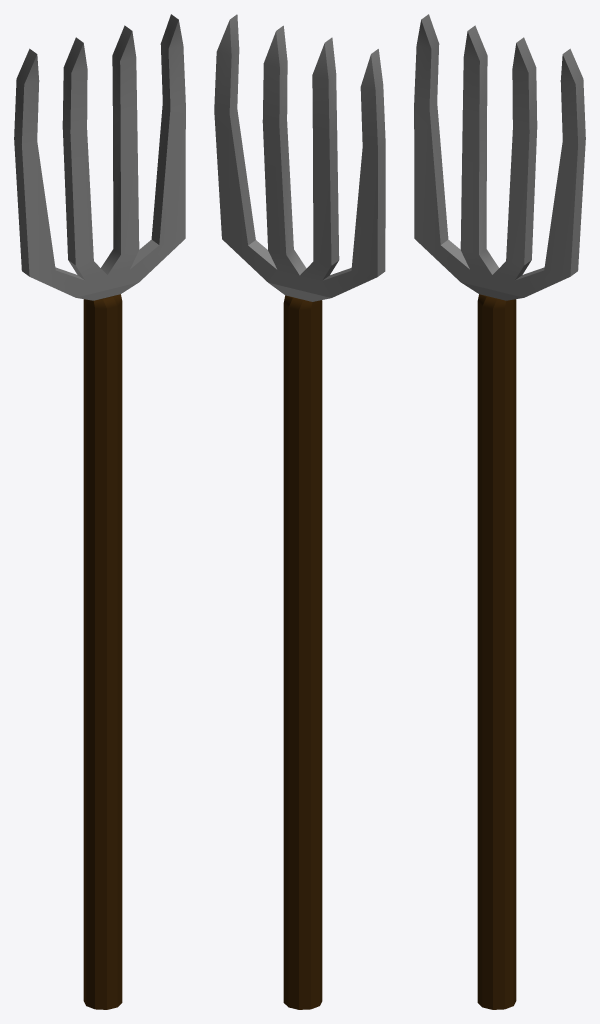
Rendered from Pitchfork_01.fbx.
3 renders of one model, left to right at view 1: azimuth 30°, elevation 25°; view 2: azimuth 150°, elevation 25°; view 3: azimuth 330°, elevation 25°, orthographic.
Parts seen in each view (by area): view 1: pCylinder1; view 2: pCylinder1; view 3: pCylinder1.
Boxes of the visible parts, x1=… form: pCylinder1: x1=14, y1=14, x2=185, y2=1009; pCylinder1: x1=214, y1=14, x2=385, y2=1009; pCylinder1: x1=414, y1=14, x2=585, y2=1009.
Size of the model in its own units: 48.54 by 274 by 9.51.
